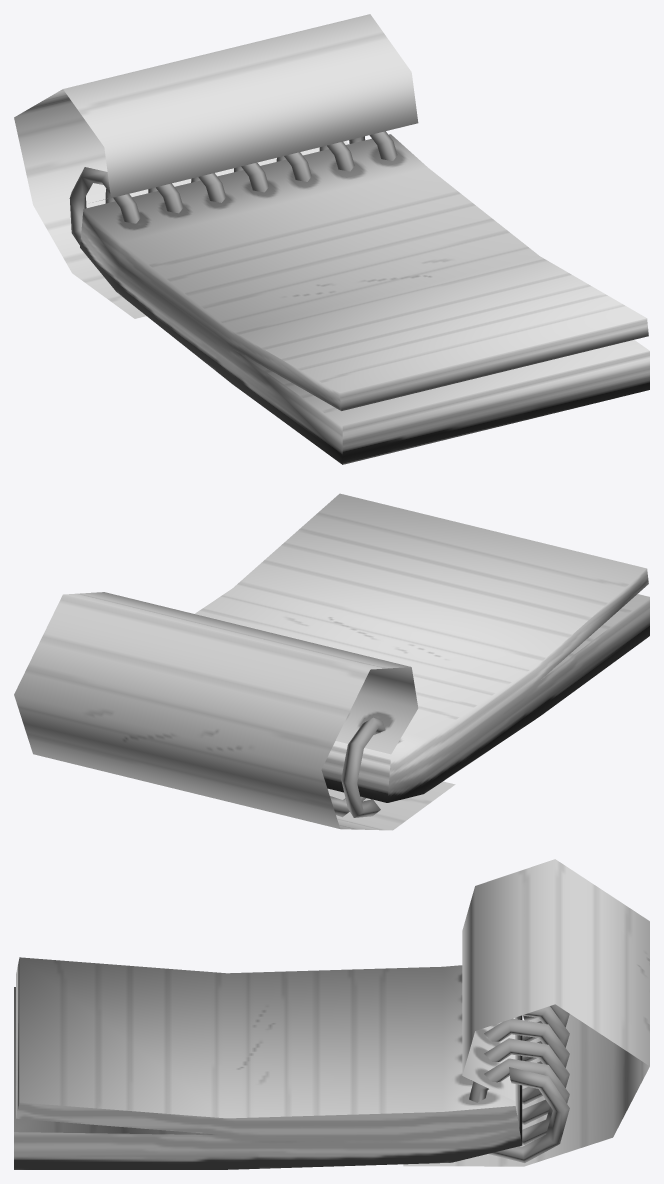
The model's file is obj_NotePad.fbx.
3 renders of one model, top to bottom at view 1: azimuth 30°, elevation 25°; view 2: azimuth 150°, elevation 25°; view 3: azimuth 270°, elevation 25°, orthographic. The views are drawn at different scales.
Visible parts, largest first — view 1: obj_Notepad; view 2: obj_Notepad; view 3: obj_Notepad.
Boxes of the visible parts, bbox=[...] form: obj_Notepad: bbox=[14, 14, 649, 464]; obj_Notepad: bbox=[14, 493, 649, 830]; obj_Notepad: bbox=[14, 859, 649, 1169].
Size of the model in its own units: 0.0972 by 0.0506 by 0.1762.
1 material, 1 textured.
